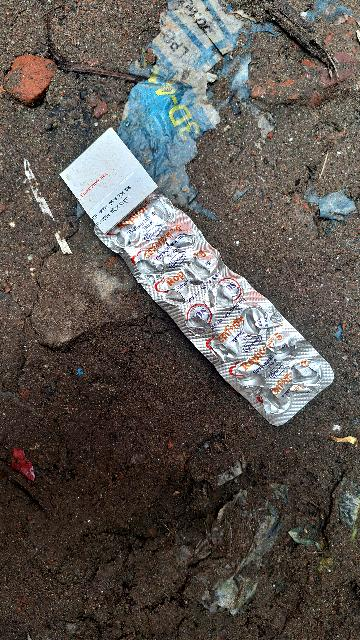medicine: (78, 160, 346, 440)
